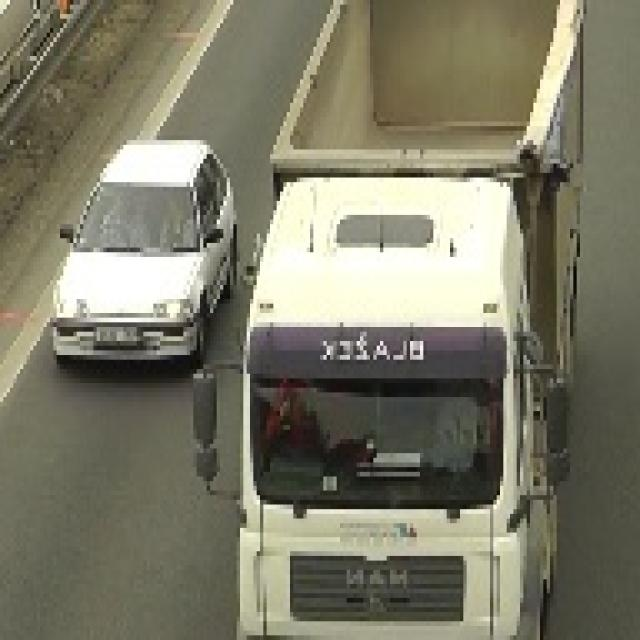SED: (52, 144, 237, 378)
TRUCK: (226, 0, 600, 635)
